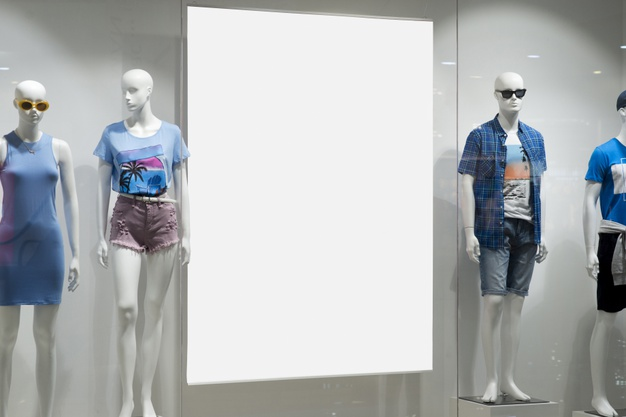person-like: (89, 65, 196, 417), (455, 69, 553, 406), (1, 77, 84, 417), (578, 84, 626, 411)
